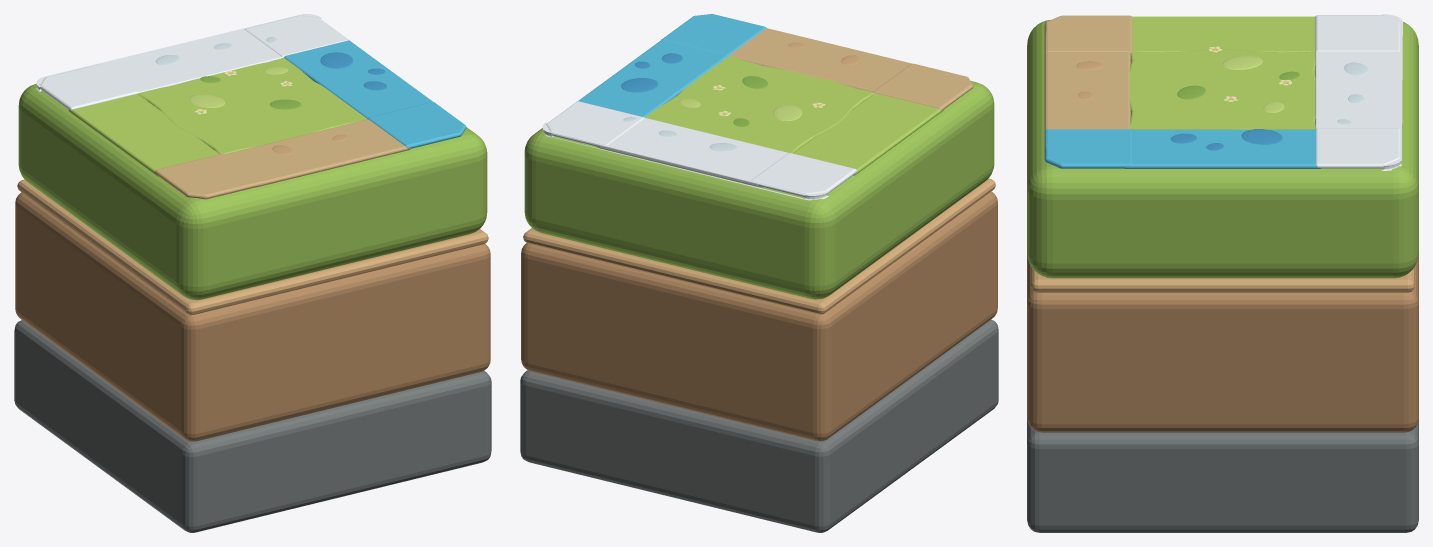
The model's file is ProjectTileSliceRender.fbx.
3 views of the same model, side by side, from view 1: azimuth 30°, elevation 25°; view 2: azimuth 150°, elevation 25°; view 3: azimuth 270°, elevation 25° (orthographic). The views are drawn at different scales.
Parts seen in each view (by area): view 1: Soil, TopicBody_OneContinuousRoundedModel, Rock, Top_Center_Grass, SoilTopHighlight, Top_S_HillEdge, Top_N_SnowEdge, Top_W_GrassEdge, Top_E_WaterEdge, Top_SW_HillGrassCorner, Top_SE_WaterHillCorner, Top_NW_SnowGrassCorner (+1 smaller); view 2: Soil, TopicBody_OneContinuousRoundedModel, Rock, Top_Center_Grass, SoilTopHighlight, Top_N_SnowEdge, Top_W_GrassEdge, Top_S_HillEdge, Top_E_WaterEdge, Top_NW_SnowGrassCorner, Top_SW_HillGrassCorner, Top_NE_SnowWaterCorner (+1 smaller); view 3: Soil, TopicBody_OneContinuousRoundedModel, Rock, Top_Center_Grass, Top_N_SnowEdge, Top_E_WaterEdge, Top_W_GrassEdge, Top_S_HillEdge, SoilTopHighlight, Top_SE_WaterHillCorner, Top_NE_SnowWaterCorner, Top_SW_HillGrassCorner (+3 smaller).
Part boxes in pixels (x1,y1,x2,y2): Soil: (15, 192, 490, 441); TopicBody_OneContinuousRoundedModel: (18, 83, 487, 300); Rock: (14, 320, 491, 532); Top_Center_Grass: (137, 57, 367, 154); SoilTopHighlight: (17, 179, 488, 314); Top_S_HillEdge: (224, 119, 410, 187); Top_N_SnowEdge: (36, 14, 321, 94); Top_W_GrassEdge: (68, 94, 219, 176); Top_E_WaterEdge: (284, 40, 432, 118); Top_SW_HillGrassCorner: (154, 154, 261, 199); Top_SE_WaterHillCorner: (367, 102, 466, 148); Top_NW_SnowGrassCorner: (40, 64, 138, 110); Soil: (521, 191, 997, 441); TopicBody_OneContinuousRoundedModel: (524, 81, 994, 299); Rock: (520, 319, 998, 532); Top_Center_Grass: (645, 56, 874, 153); SoilTopHighlight: (523, 178, 995, 314); Top_N_SnowEdge: (542, 118, 828, 200); Top_W_GrassEdge: (792, 93, 944, 175); Top_S_HillEdge: (729, 28, 911, 91); Top_E_WaterEdge: (578, 39, 727, 117); Top_NW_SnowGrassCorner: (751, 153, 856, 197); Top_SW_HillGrassCorner: (873, 63, 973, 110); Top_NE_SnowWaterCorner: (546, 101, 644, 146); Soil: (1027, 253, 1418, 432); TopicBody_OneContinuousRoundedModel: (1027, 20, 1418, 278); Rock: (1027, 418, 1418, 532); Top_Center_Grass: (1129, 49, 1315, 129); Top_N_SnowEdge: (1315, 14, 1402, 171); Top_E_WaterEdge: (1124, 129, 1321, 168); Top_W_GrassEdge: (1132, 16, 1315, 52); Top_S_HillEdge: (1044, 52, 1130, 131); SoilTopHighlight: (1031, 267, 1414, 292); Top_SE_WaterHillCorner: (1044, 129, 1131, 168); Top_NE_SnowWaterCorner: (1316, 128, 1400, 168); Top_SW_HillGrassCorner: (1044, 15, 1132, 53).
Bounding box in the file's own units: 100 × 106 × 100.
